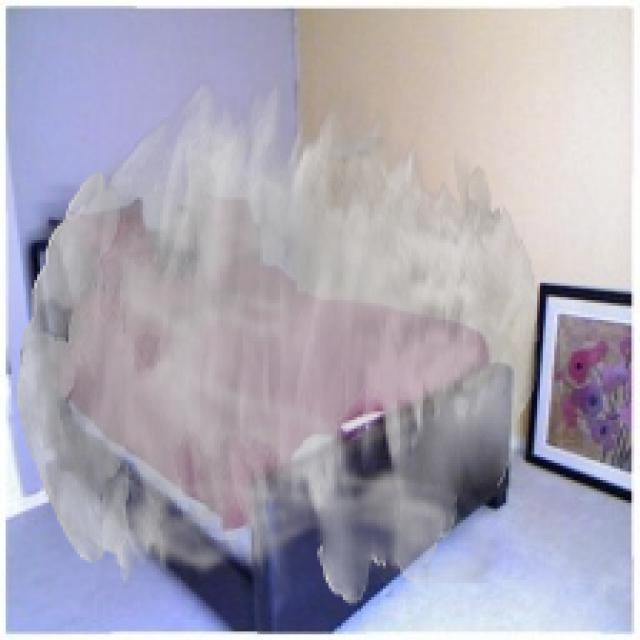Smoke: (17, 74, 540, 606)
